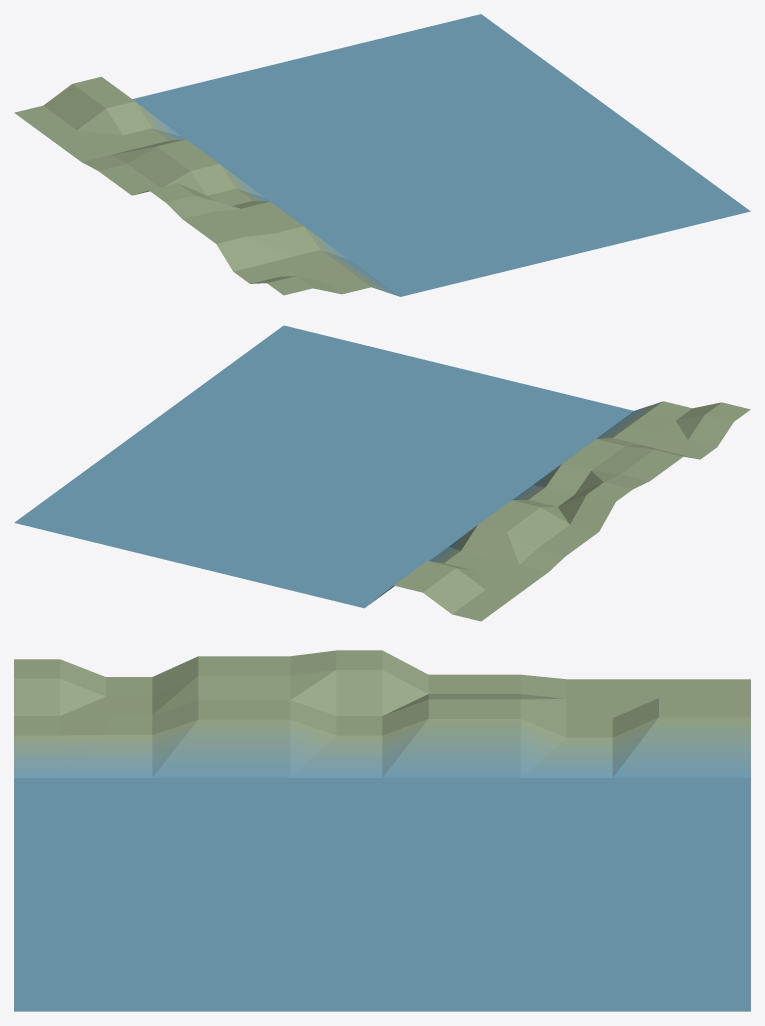
The picture shows the model from 3 angles, top to bottom: view 1: azimuth 30°, elevation 25°; view 2: azimuth 150°, elevation 25°; view 3: azimuth 270°, elevation 25°; orthographic projection. The views are drawn at different scales.
Bounding box in the file's own units: 32 × 2.38 × 32.
